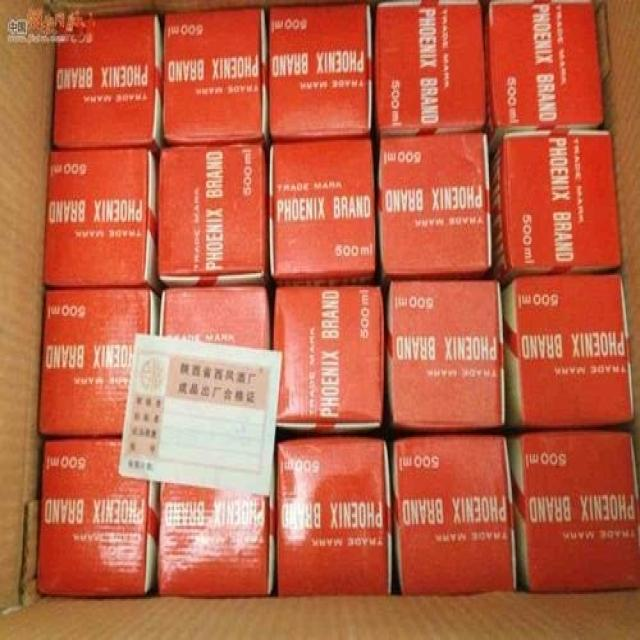box: (507, 431, 639, 591), (392, 435, 517, 595), (502, 275, 631, 429), (491, 131, 620, 284), (36, 438, 159, 596), (276, 435, 391, 595), (36, 289, 160, 437), (385, 279, 504, 433), (375, 134, 491, 282), (269, 138, 379, 288), (272, 286, 385, 429), (43, 151, 159, 288), (157, 145, 268, 288), (486, 1, 605, 134), (50, 17, 163, 150), (375, 1, 486, 134), (267, 5, 373, 143), (161, 11, 269, 145), (157, 483, 276, 596), (157, 287, 272, 349)
